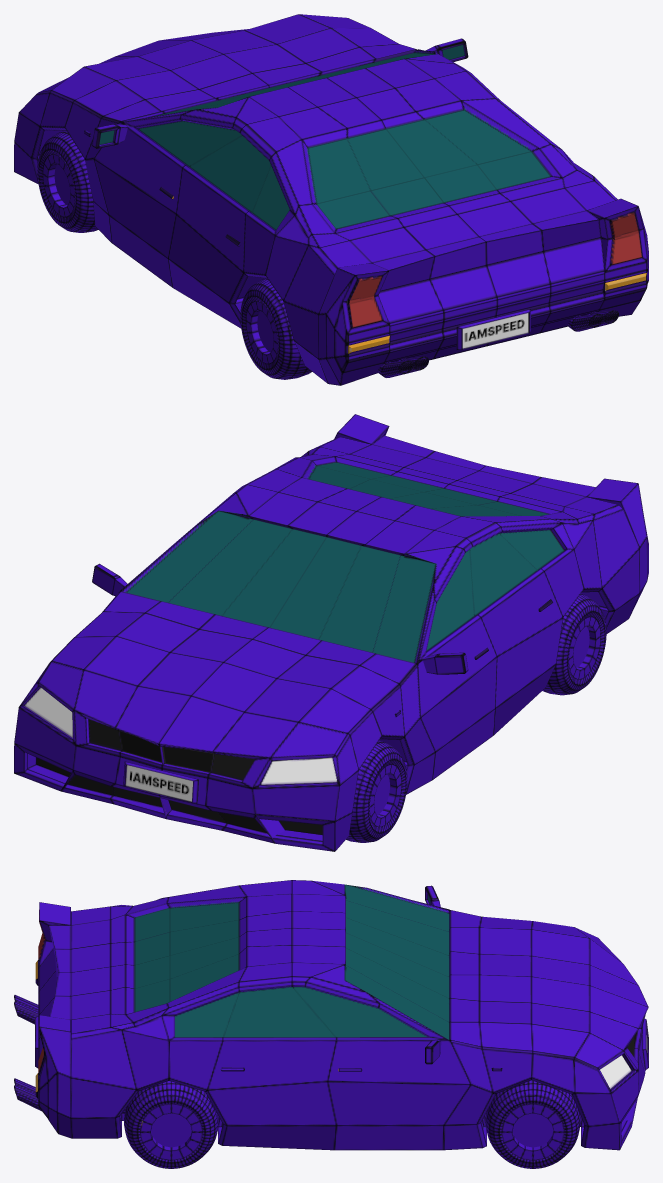
The model's file is car.gltf.
The picture shows the model from 3 angles, top to bottom: view 1: azimuth 30°, elevation 25°; view 2: azimuth 150°, elevation 25°; view 3: azimuth 270°, elevation 25°; orthographic projection. The views are drawn at different scales.
Parts seen in each view (by area): view 1: car; view 2: car; view 3: car.
Part boxes in pixels (x1,y1,x2,y2): car: [14, 14, 648, 385]; car: [14, 414, 648, 851]; car: [14, 880, 648, 1168].
Size of what is drawn, in the model's own units: 2.82 by 1.4 by 4.6.
Materials: 1 (1 with a texture image).
